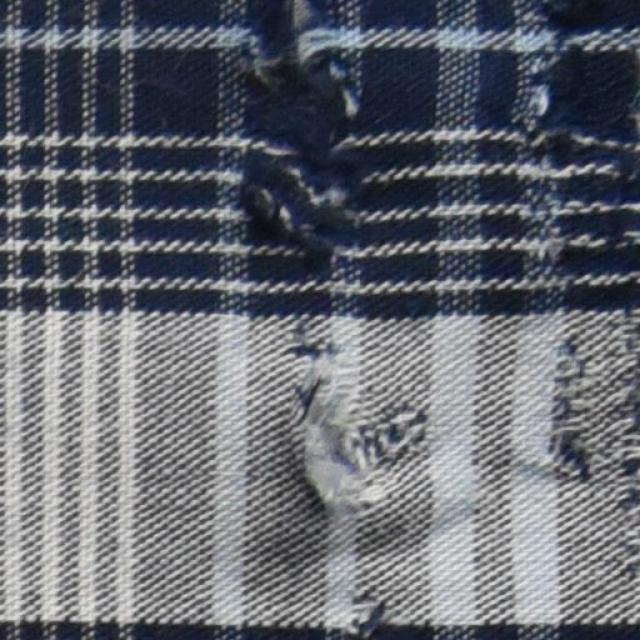Snag: (221, 3, 387, 269), (260, 340, 446, 531), (549, 301, 639, 507), (523, 1, 639, 160)
